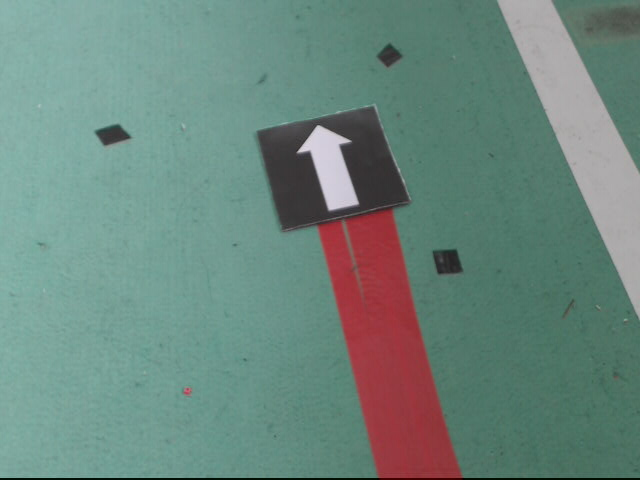straight: (258, 101, 411, 232)
